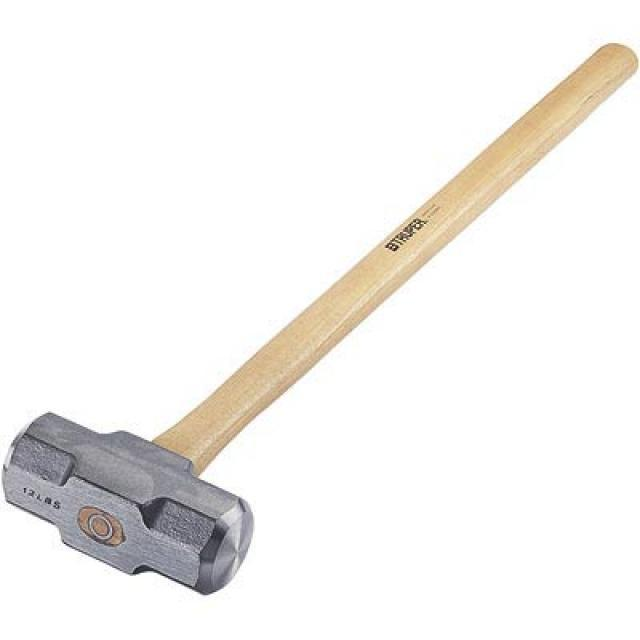hammer: (0, 38, 638, 601)
